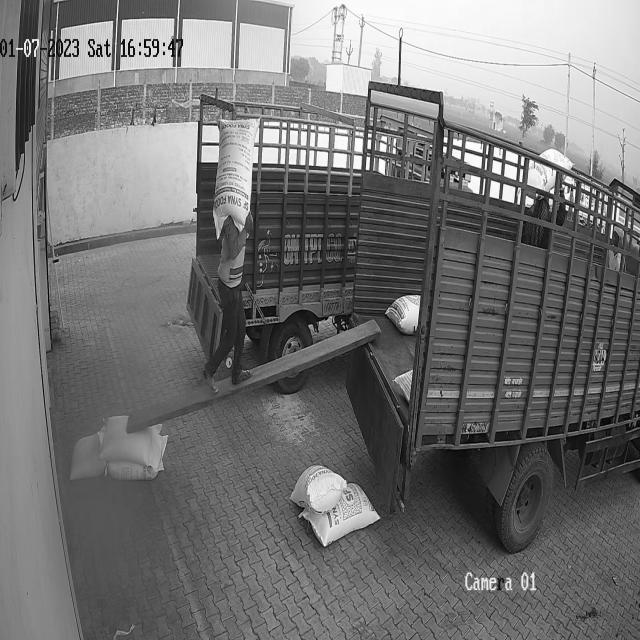sack: (213, 117, 260, 240), (298, 480, 380, 548), (100, 414, 163, 467), (104, 434, 168, 479), (290, 464, 345, 512), (69, 430, 107, 482)
